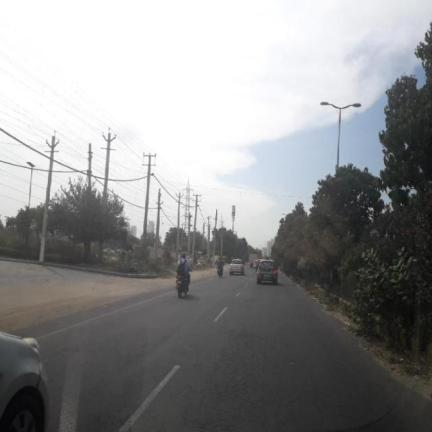Road: (21, 269, 431, 431)
